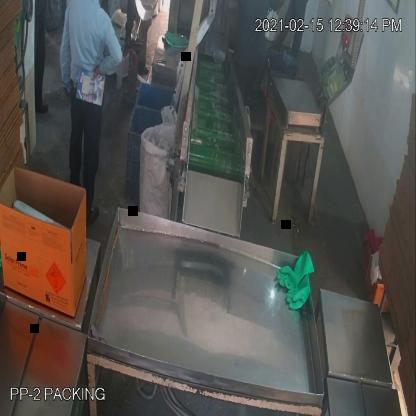glove: (273, 241, 317, 322)
no_glove: (94, 31, 124, 84)
